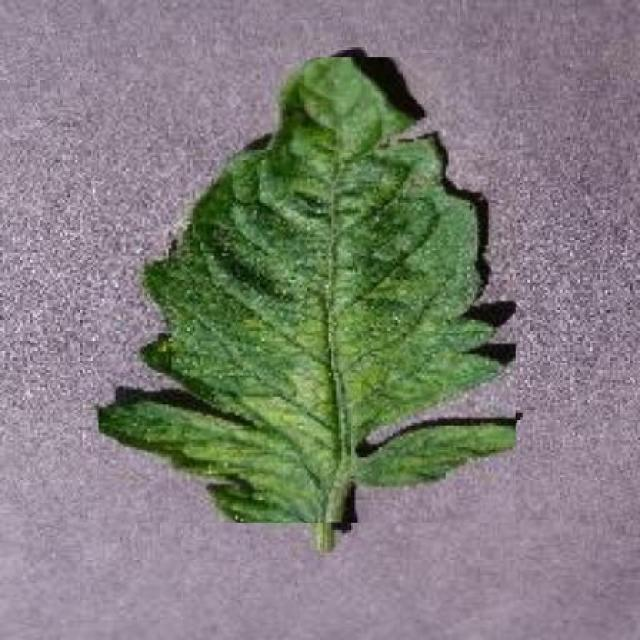Mosaic Virus: (98, 58, 516, 522)
